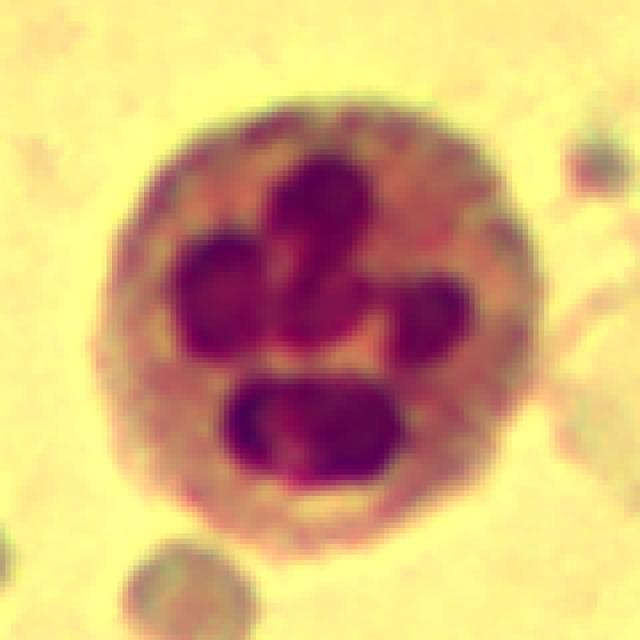WBC: (80, 91, 576, 592)
